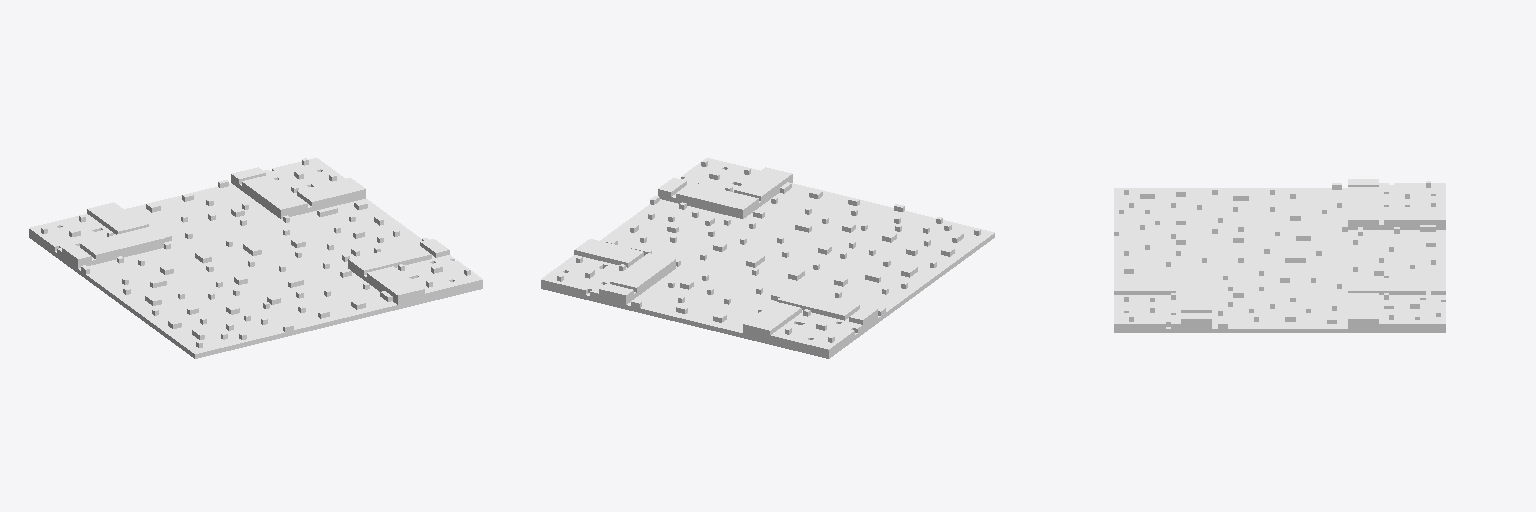
The model's file is EarthenPath4Fork_2.obj.
3 renders of one model, left to right at view 1: azimuth 30°, elevation 25°; view 2: azimuth 150°, elevation 25°; view 3: azimuth 270°, elevation 25°, orthographic.
Visible parts, largest first — view 1: EarthenPath4Fork_2; view 2: EarthenPath4Fork_2; view 3: EarthenPath4Fork_2.
Boxes of the visible parts, <box> form: EarthenPath4Fork_2: <box>29,158,482,358</box>; EarthenPath4Fork_2: <box>541,158,994,358</box>; EarthenPath4Fork_2: <box>1114,179,1445,332</box>.
Size of the model in its own units: 1 by 0.0469 by 1.